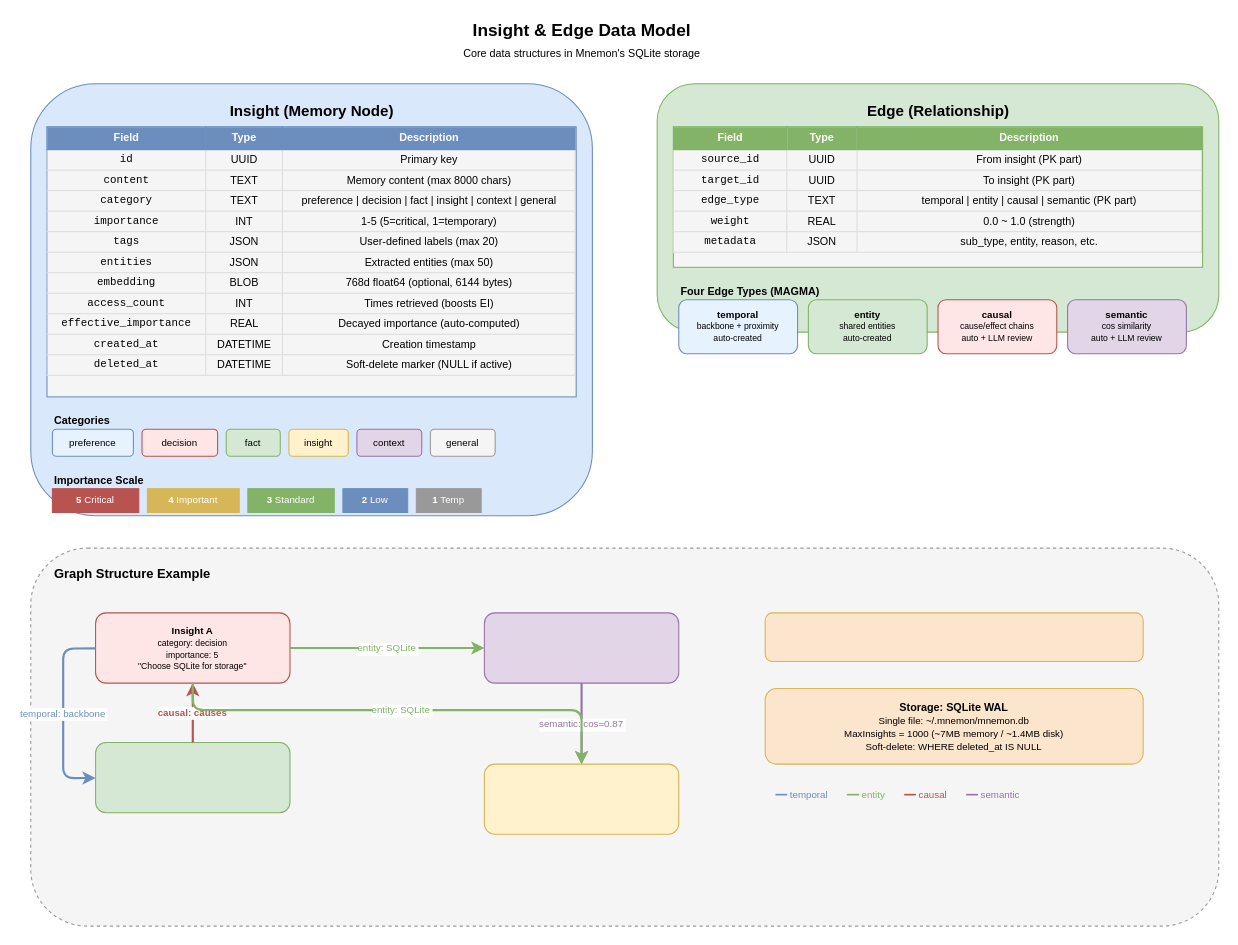
Some shapes in this 1238 by 945 pixel diagram are drawn without their labels. The shapes that lost their labels are listed below. From the top down, each one's centre as x and y in pixels, then its label:
(581,647): Insight C category: context importance: 3 "SQLite WAL concurrency test"
(953,637): OpLog (Audit Trail) id | operation | insight_id | detail | created_at
(192,777): Insight B category: fact importance: 3 "Team lacks Redis experience"
(581,798): Insight D category: insight importance: 4 "DB comparison report"
